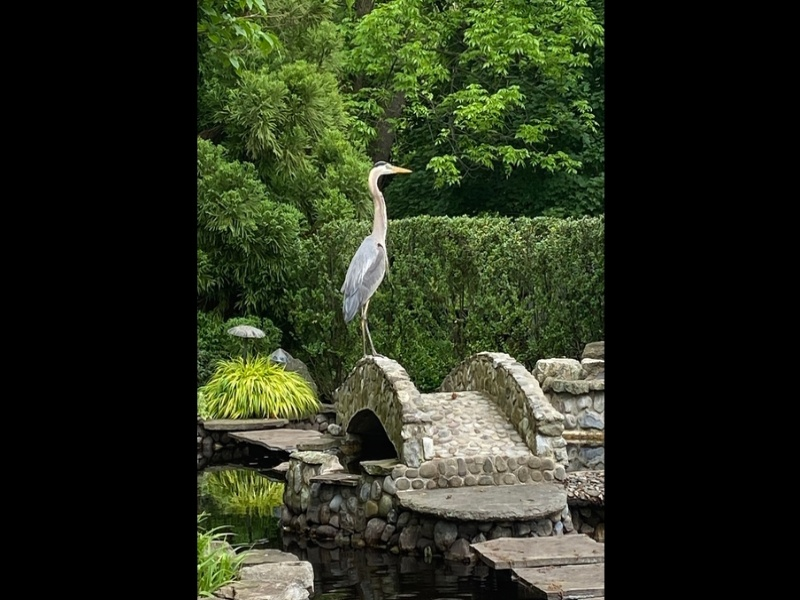heron: (341, 159, 412, 358)
